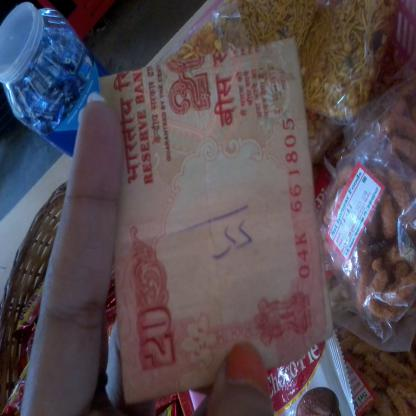Old20Front: (101, 53, 320, 384)
